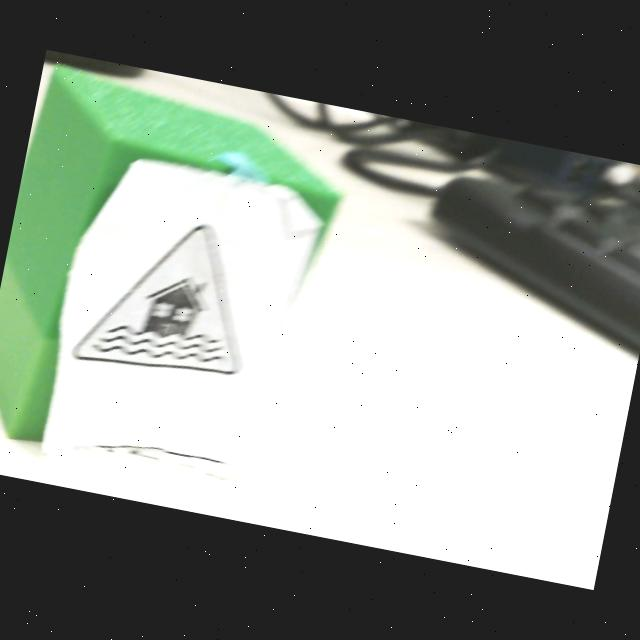Tsunami: (72, 225, 243, 375)
